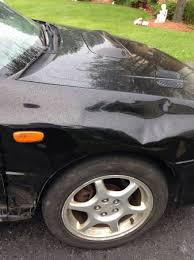bonnet-dent: (38, 24, 193, 106)
fender-dent: (32, 95, 182, 149)
